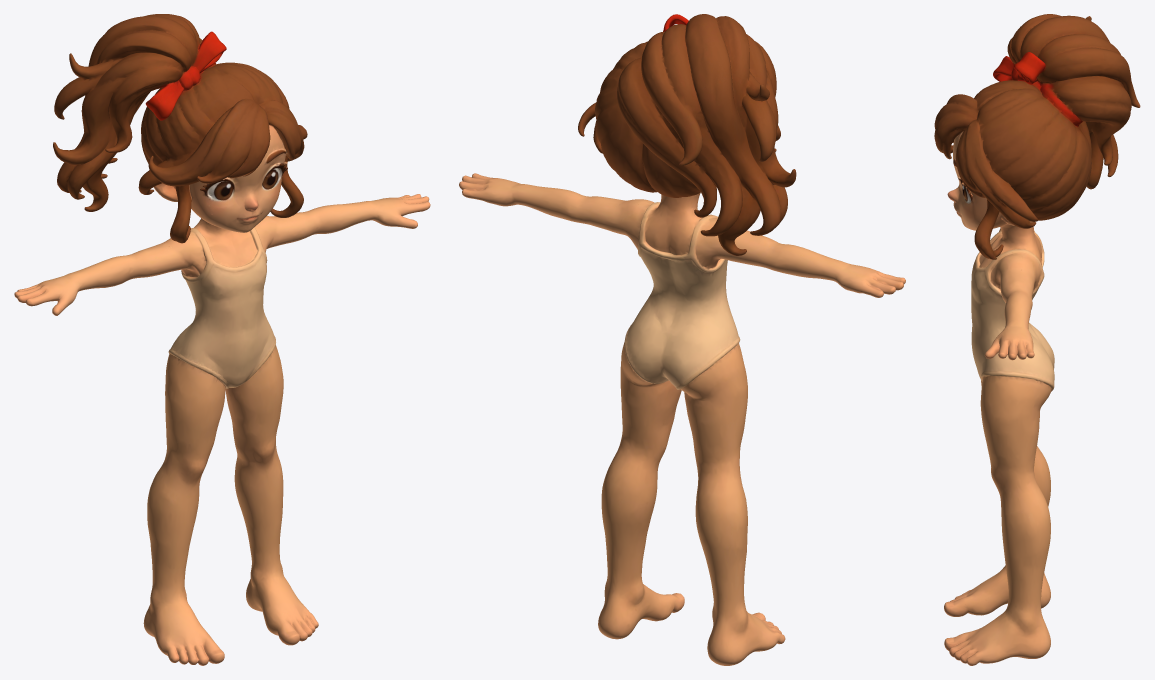
File: tripo_convert_68fc9f57-e08e-4cf1-804b-a6febd6f1021.glb
3 views of the same model, side by side, from view 1: azimuth 30°, elevation 25°; view 2: azimuth 150°, elevation 25°; view 3: azimuth 270°, elevation 25° (orthographic). The views are drawn at different scales.
Parts seen in each view (by area): view 1: tripo_node_68fc9f57-e08e-4cf1-804b-a6febd6f1021; view 2: tripo_node_68fc9f57-e08e-4cf1-804b-a6febd6f1021; view 3: tripo_node_68fc9f57-e08e-4cf1-804b-a6febd6f1021.
Boxes of the visible parts, x1,y1,x2,y2 form: tripo_node_68fc9f57-e08e-4cf1-804b-a6febd6f1021: [14, 14, 430, 665]; tripo_node_68fc9f57-e08e-4cf1-804b-a6febd6f1021: [459, 14, 905, 665]; tripo_node_68fc9f57-e08e-4cf1-804b-a6febd6f1021: [934, 14, 1140, 665].
Bounding box in the file's own units: 0.7075 × 1 × 0.3146.
1 material, 1 textured.
